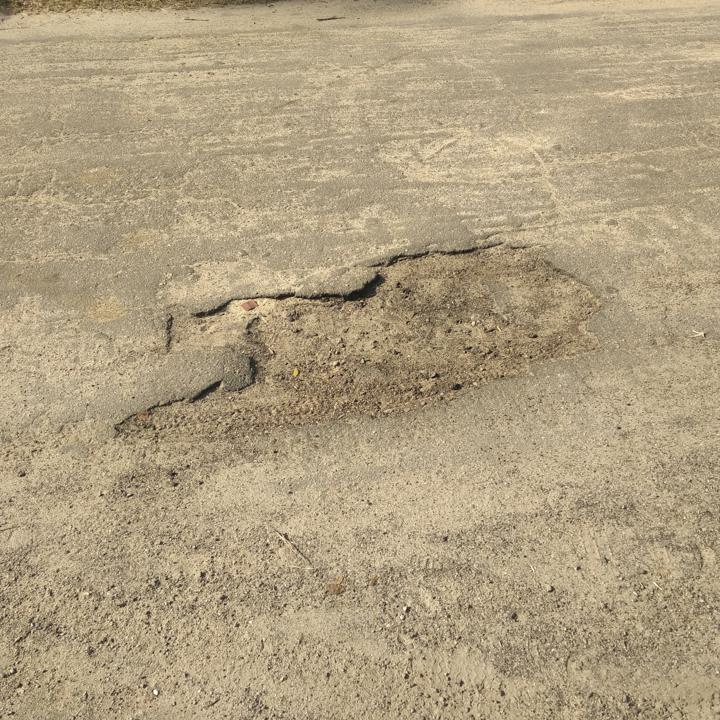pothole: (106, 236, 609, 449)
